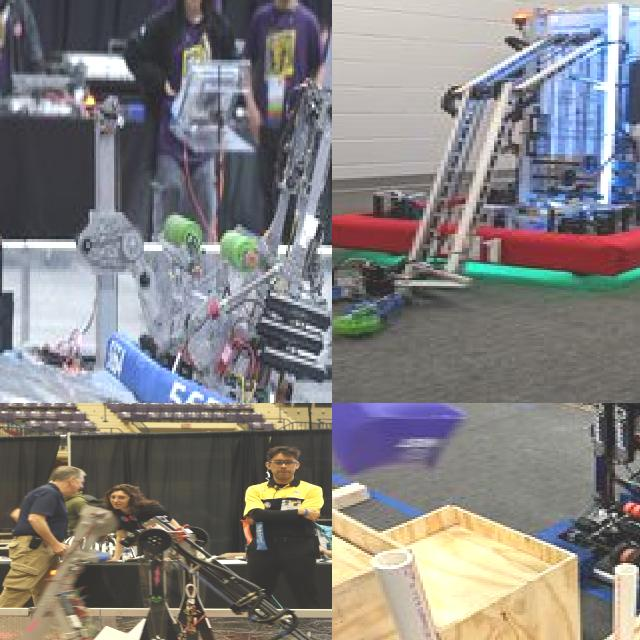FRC-Robots: (332, 0, 640, 338), (134, 17, 332, 403), (0, 482, 207, 640), (59, 524, 332, 640), (529, 403, 640, 622)
